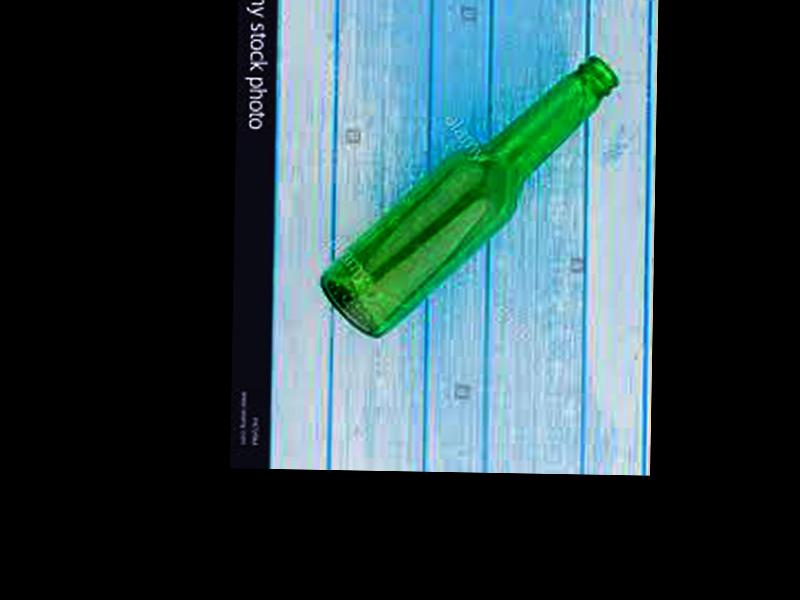Beer: (315, 49, 619, 344)
